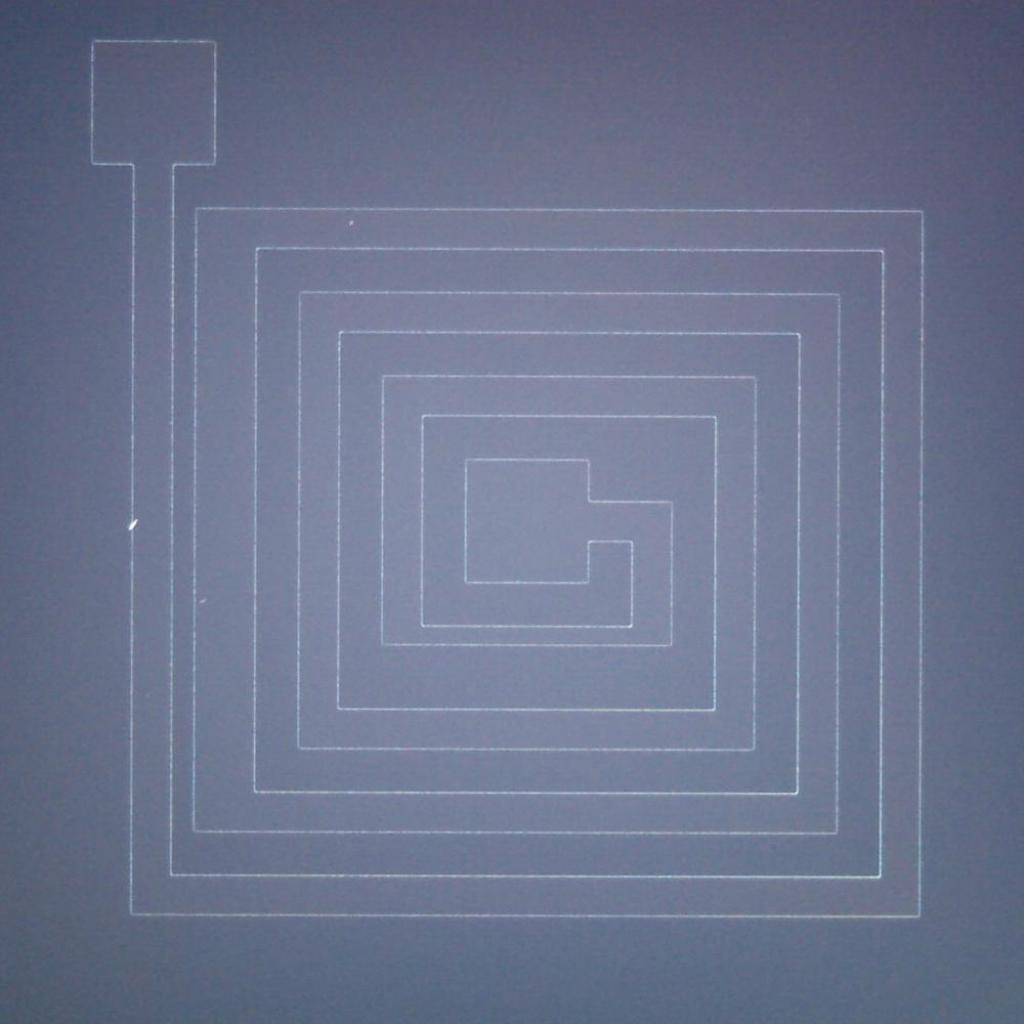dot: (200, 596, 208, 604), (349, 220, 354, 225)
